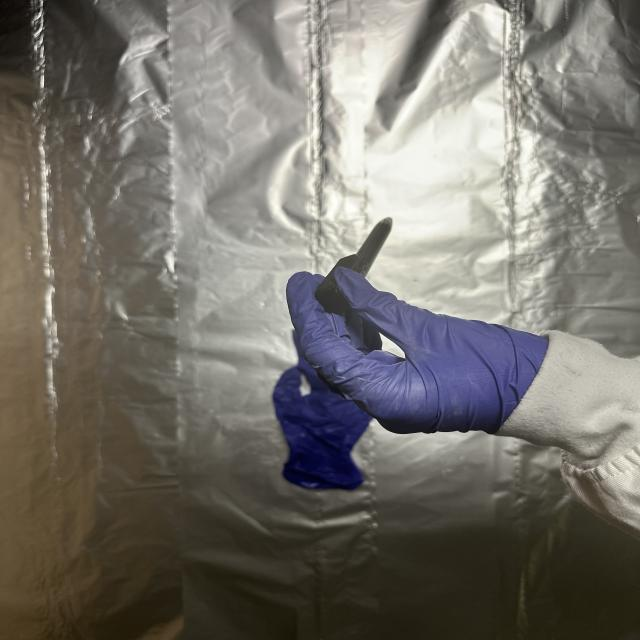gloves_contaminated: (287, 270, 548, 433)
